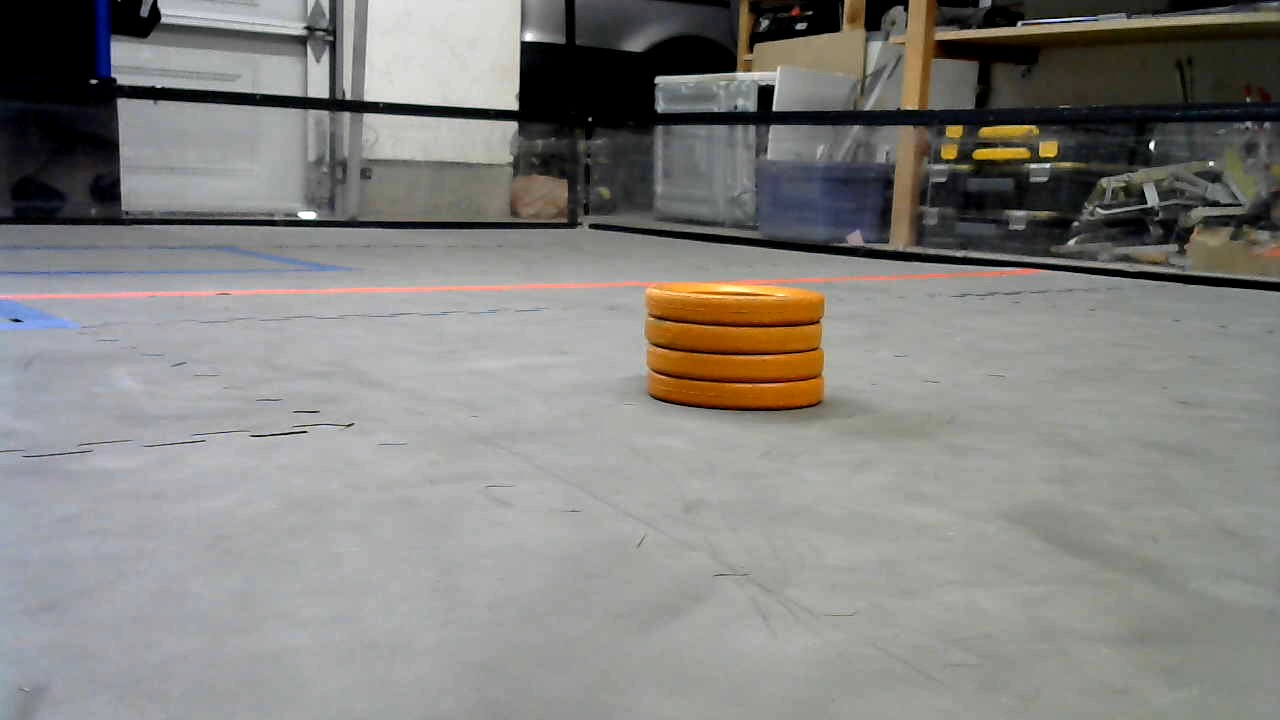FourStack: (644, 284, 827, 410)
